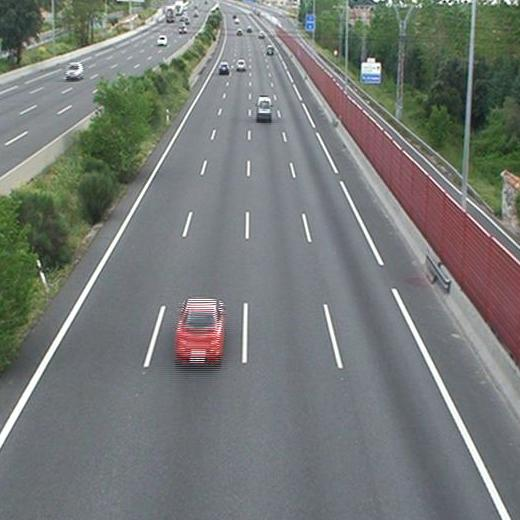car: (175, 298, 224, 362), (236, 60, 246, 71), (219, 62, 229, 73), (266, 45, 274, 53)
van: (257, 97, 271, 120)
